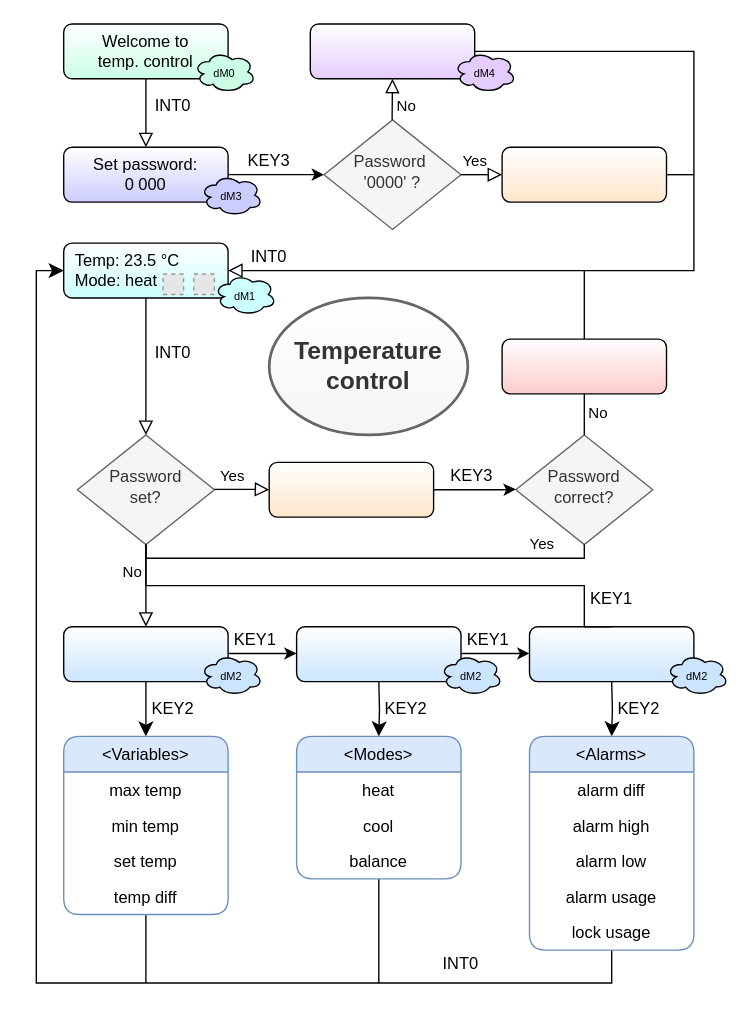
Image size: 752x1021. Some labels were removed from this diagram. Grey dashed boxes stand in for pictures. Here are the shapes that lost their labels. From the top down, the centre of each, then its label:
pixel 392 51: Password set ->1234<-
pixel 584 174: Password not used
pixel 584 366: Incorrect password
pixel 351 489: Enter password: 0 000
pixel 145 653: <Variables>
pixel 378 653: <Modes>
pixel 611 653: <Alarms>
